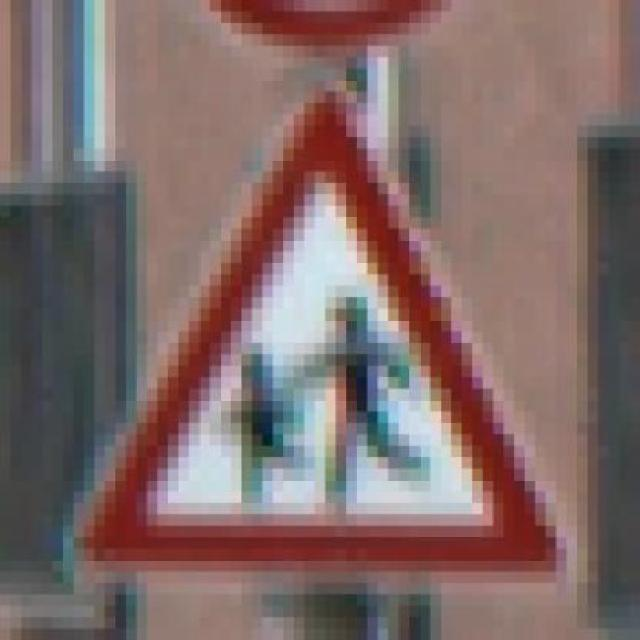Beware of children: (52, 80, 577, 583)
